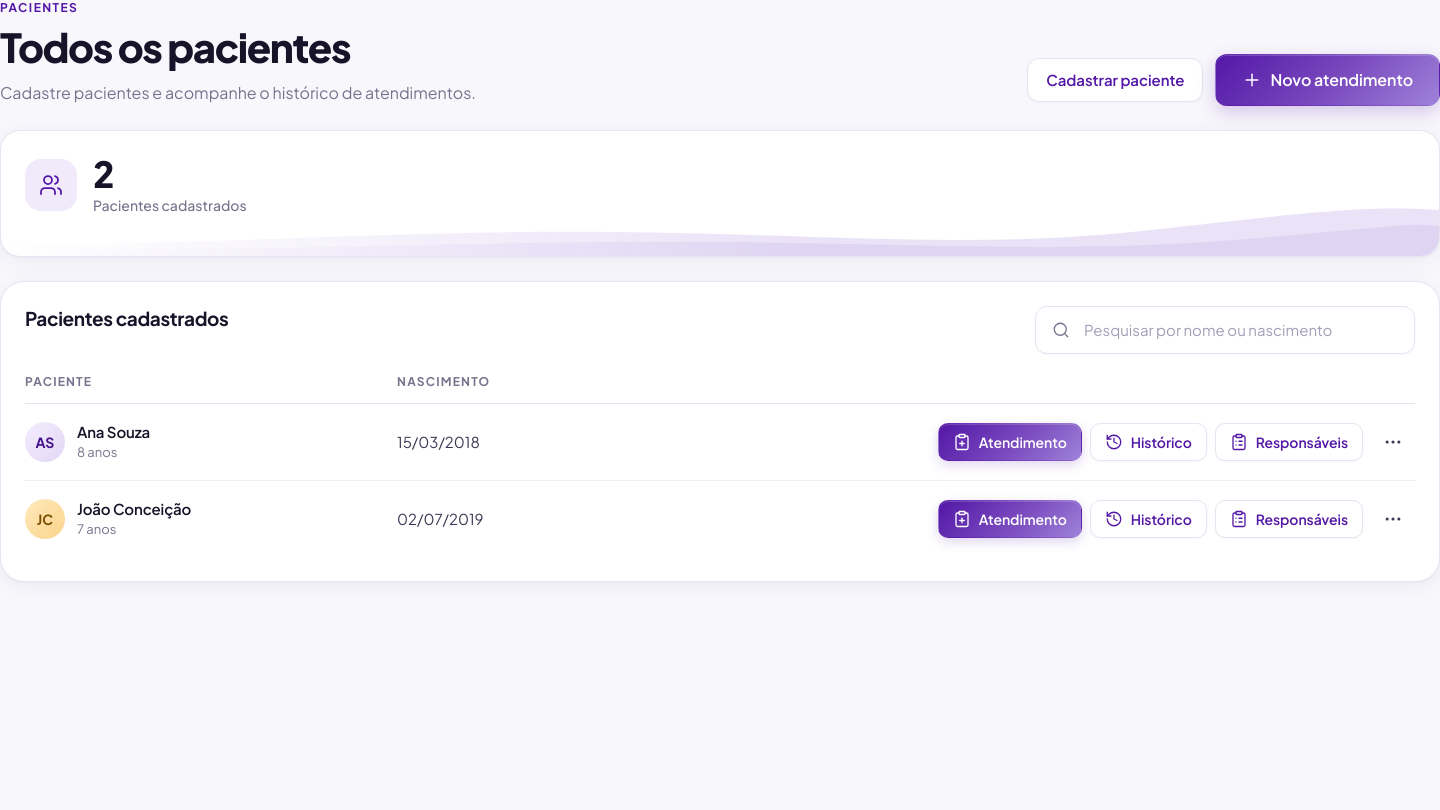
Test: exclui apenas após confirmação e atualiza a lista
This screenshot has width=1440, height=810.
What coordinates should you click on to do the following:
click the button named "Mais ações para Ana Souza"
I would click on:
 (1393, 442)
Its box is [1371, 420, 1415, 464].
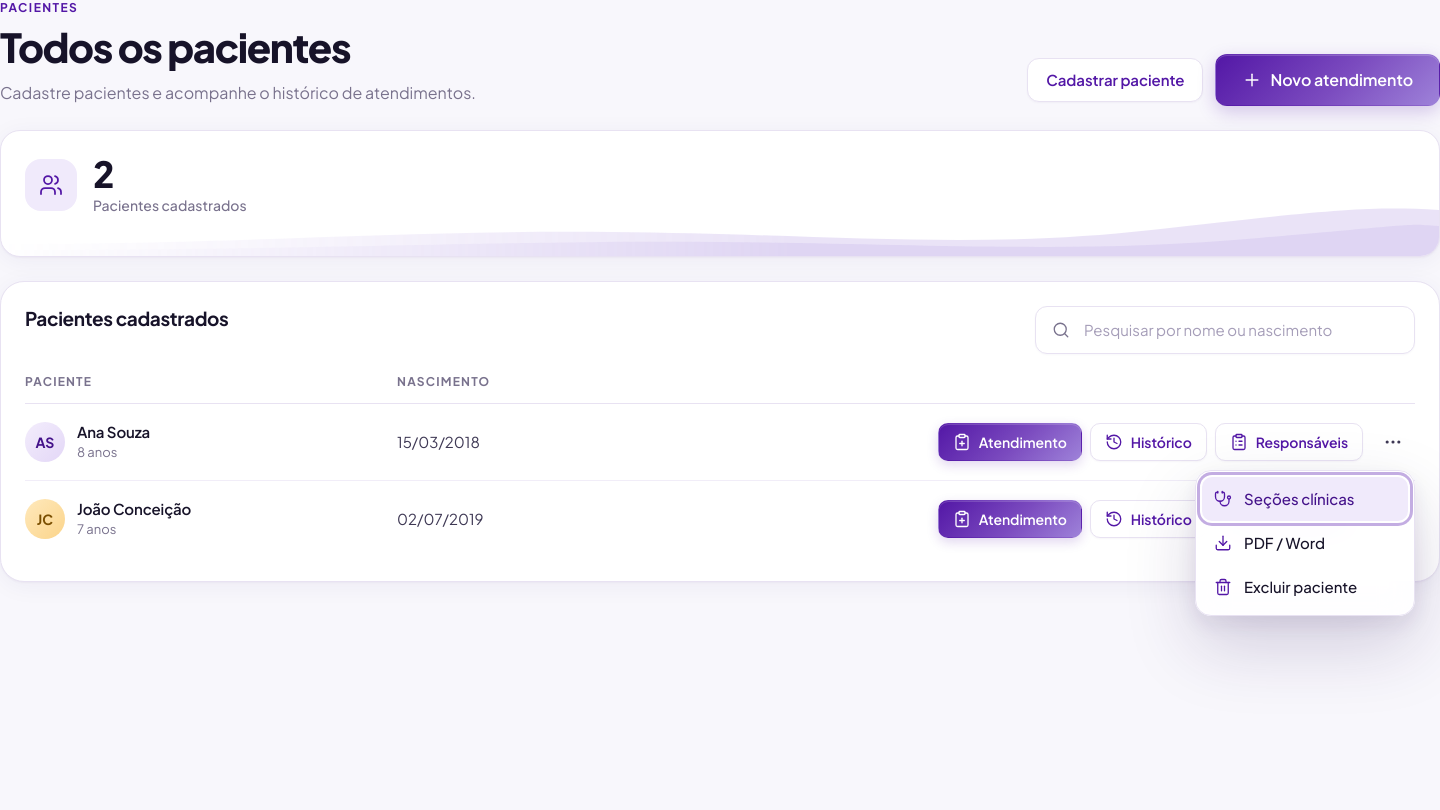
What coordinates should you click on to do the following:
click the menu item "Excluir paciente"
I would click on:
 (1305, 587)
Its box is [1202, 565, 1408, 609].
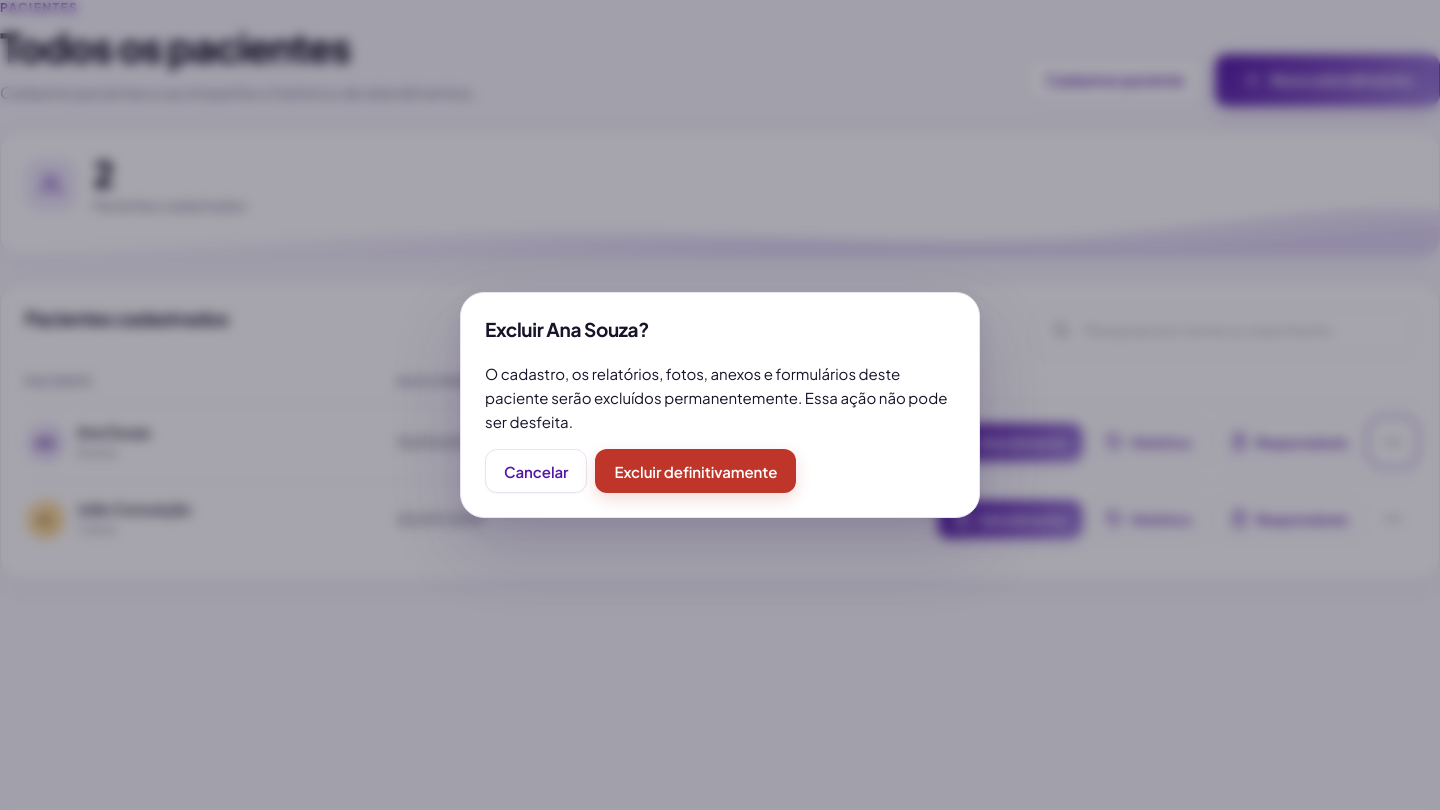
Expected: the text "permanentemente" is shown, [485, 364, 947, 431]
What coordinates should you click on to do the following:
click the button "Cancelar"
I would click on:
 (536, 471)
Its box is [485, 449, 587, 493].
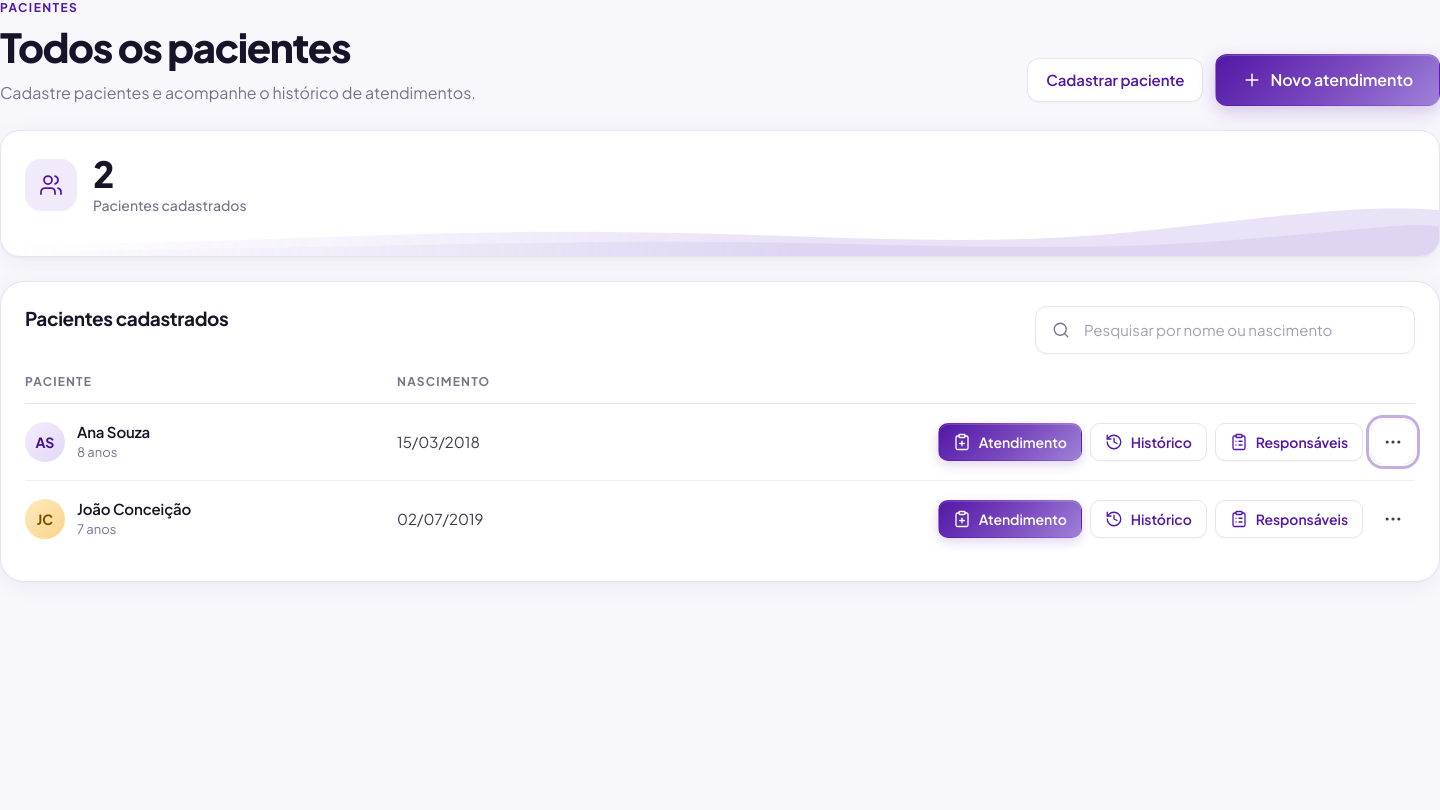
What coordinates should you click on to do the following:
click the button named "Mais ações para Ana Souza"
I would click on:
 (1393, 442)
Its box is [1371, 420, 1415, 464].
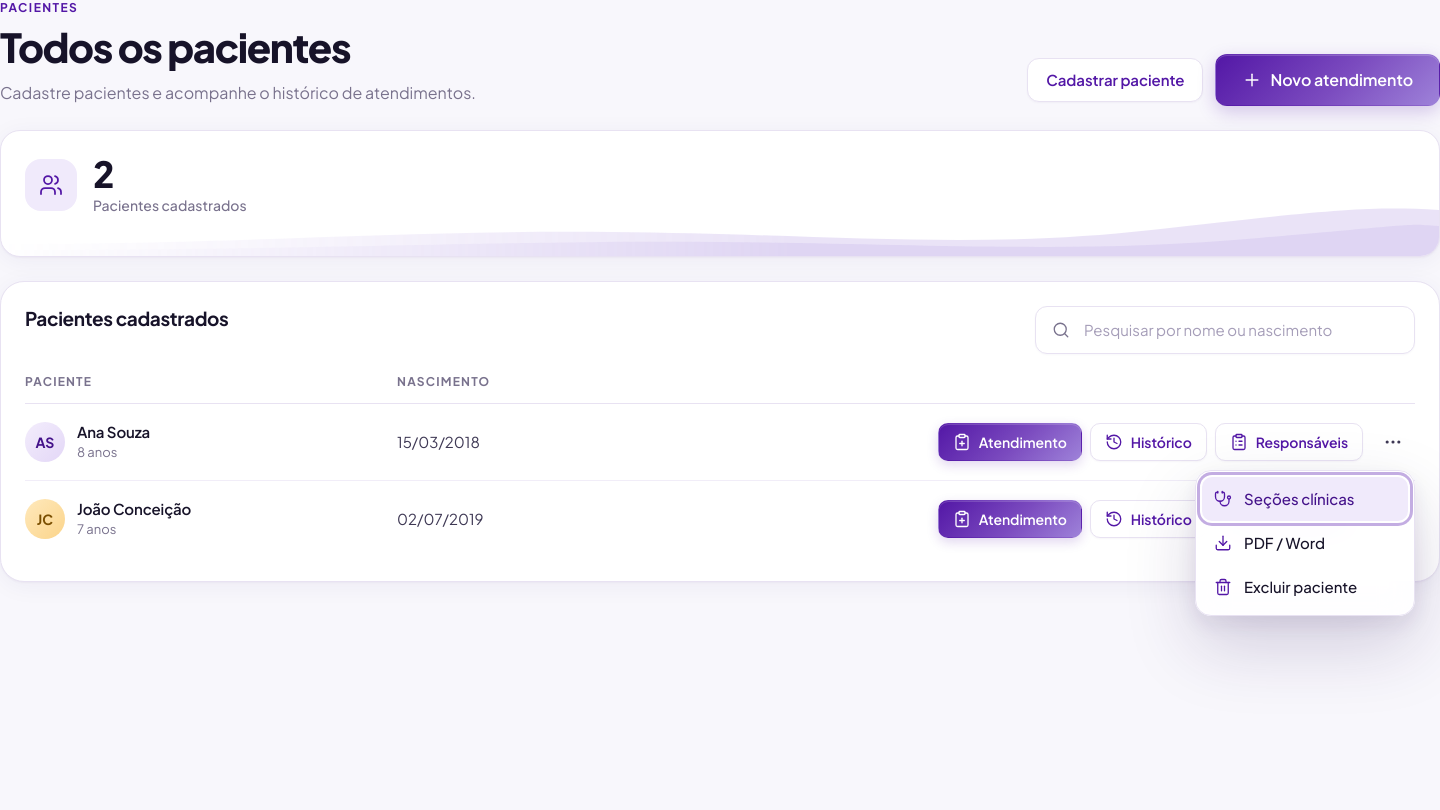
What coordinates should you click on to do the following:
click the menu item "Excluir paciente"
I would click on:
 (1305, 587)
Its box is [1202, 565, 1408, 609].
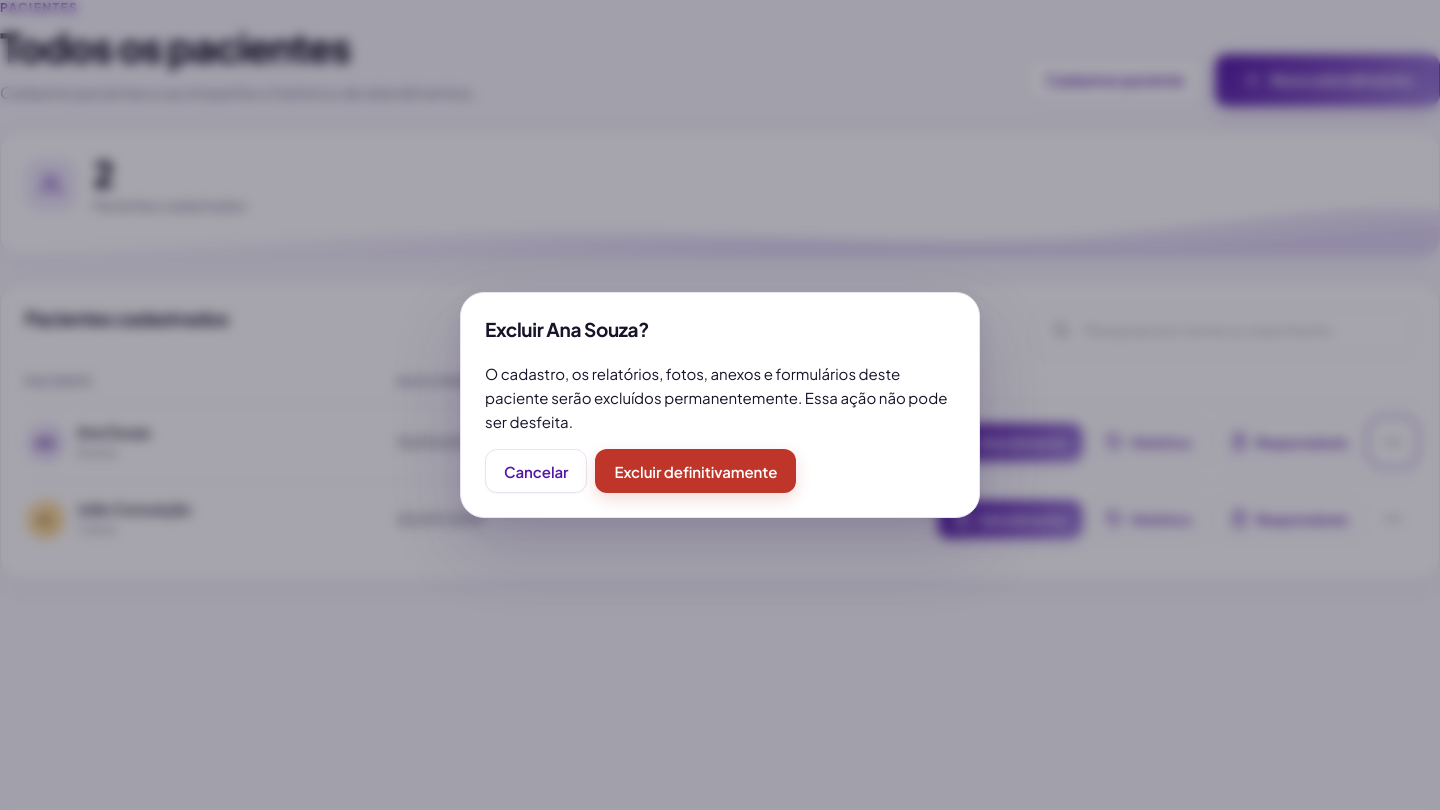
What coordinates should you click on to do the following:
click the button "Excluir definitivamente"
I would click on:
 (696, 471)
Its box is [595, 449, 796, 493].
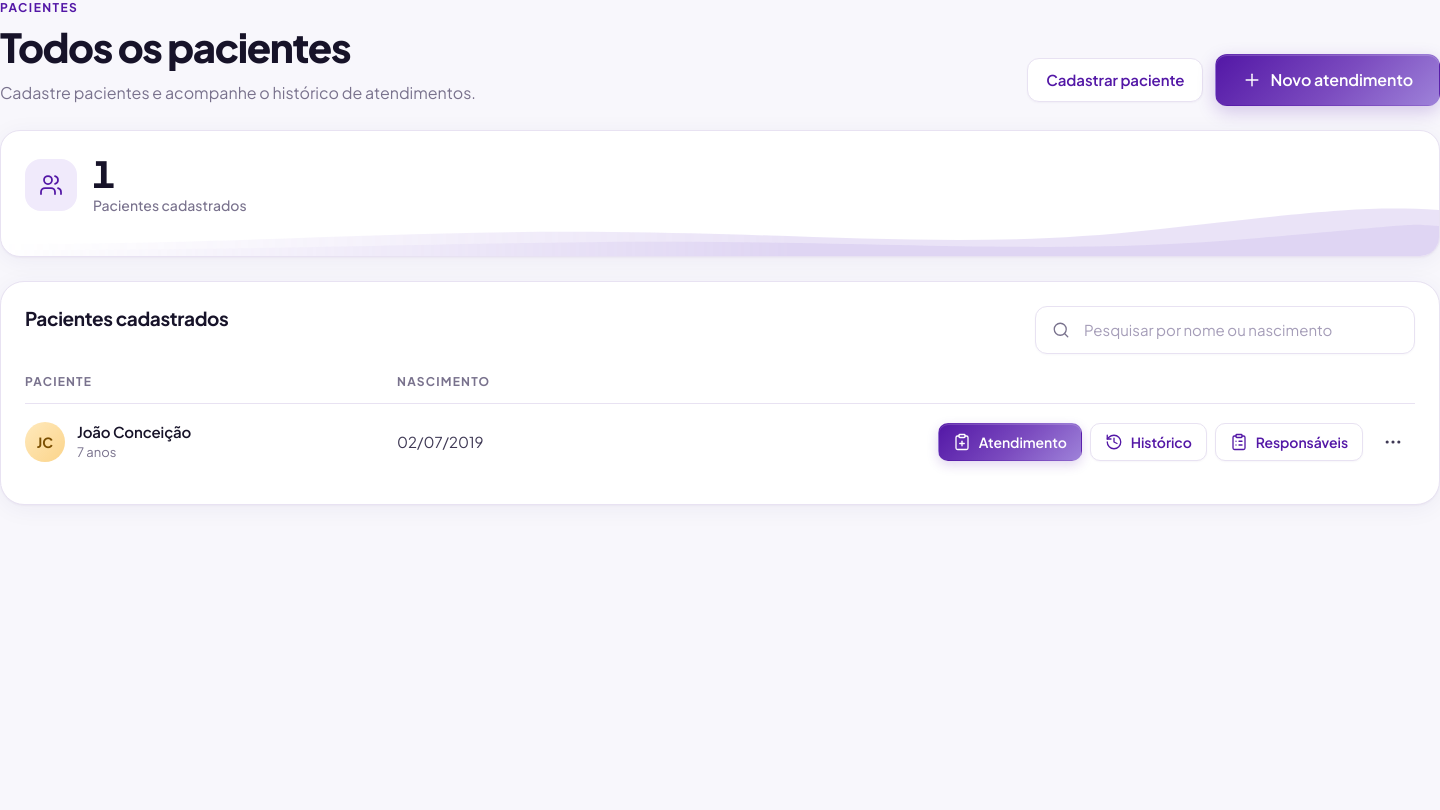
Expected: the text "João Conceição" is shown, [77, 421, 191, 443]
Expected: the text "Ana Souza" is gone
